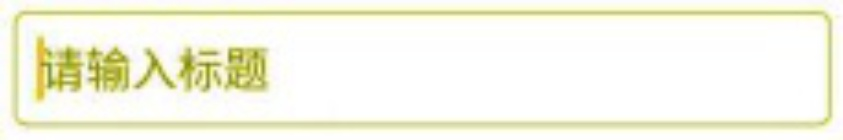EditText: (1, 1, 842, 139)
